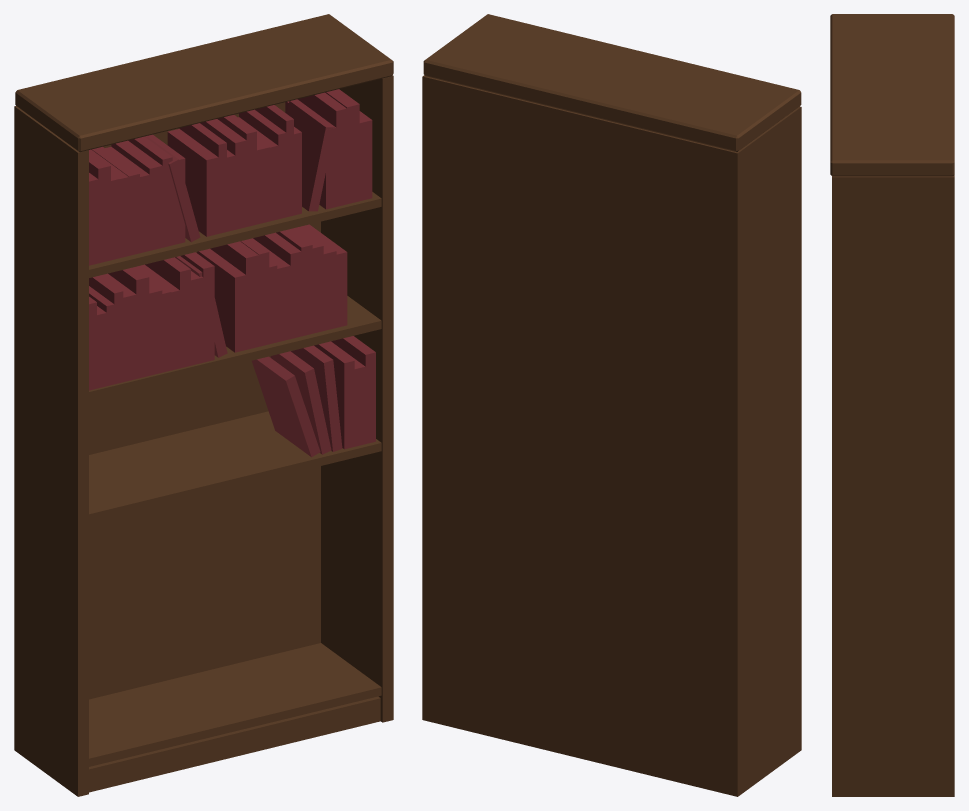
Rendered from bookshelf_gappy.glb.
The picture shows the model from 3 angles, left to right: view 1: azimuth 30°, elevation 25°; view 2: azimuth 150°, elevation 25°; view 3: azimuth 270°, elevation 25°; orthographic projection. The views are drawn at different scales.
Visible parts, largest first — view 1: bookshelf_gappy, books; view 2: bookshelf_gappy; view 3: bookshelf_gappy.
Boxes of the visible parts, x1=… form: bookshelf_gappy: x1=14, y1=14, x2=393, y2=796; books: x1=89, y1=89, x2=375, y2=457; bookshelf_gappy: x1=422, y1=14, x2=801, y2=796; bookshelf_gappy: x1=830, y1=14, x2=954, y2=796.
Size of the model in its own units: 1 by 2 by 0.355.
